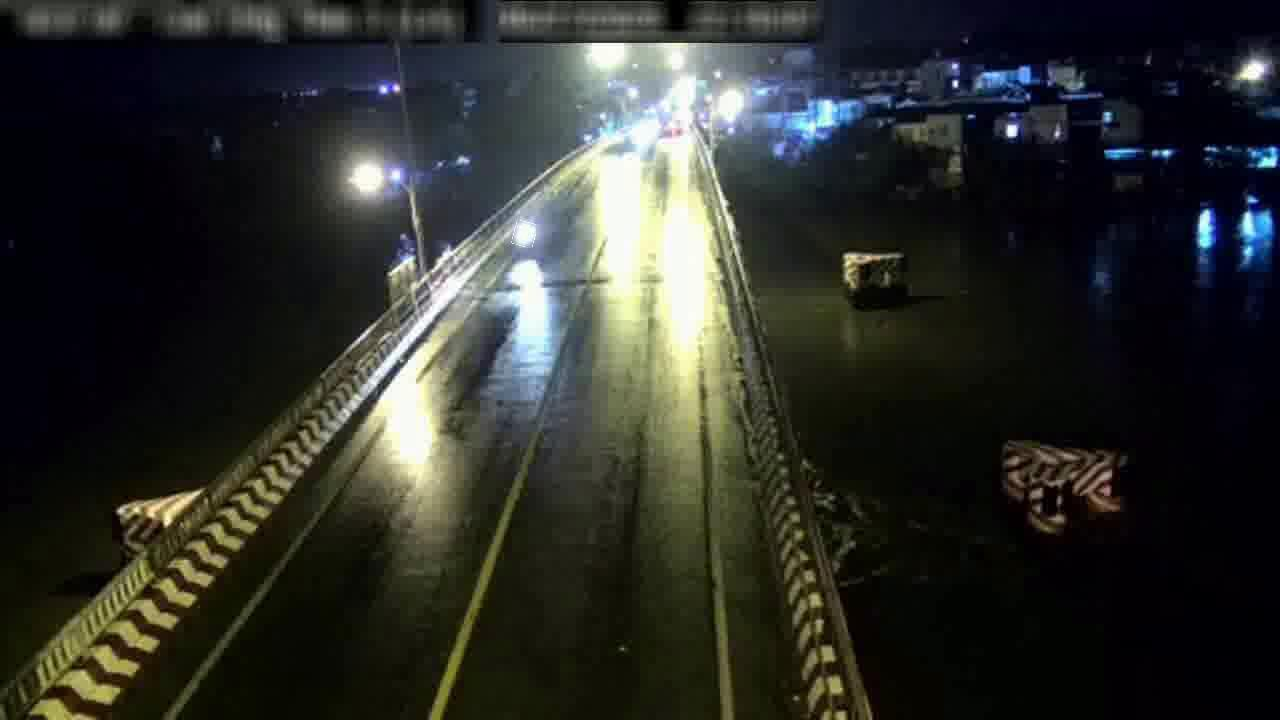motorbike: (513, 221, 536, 247)
